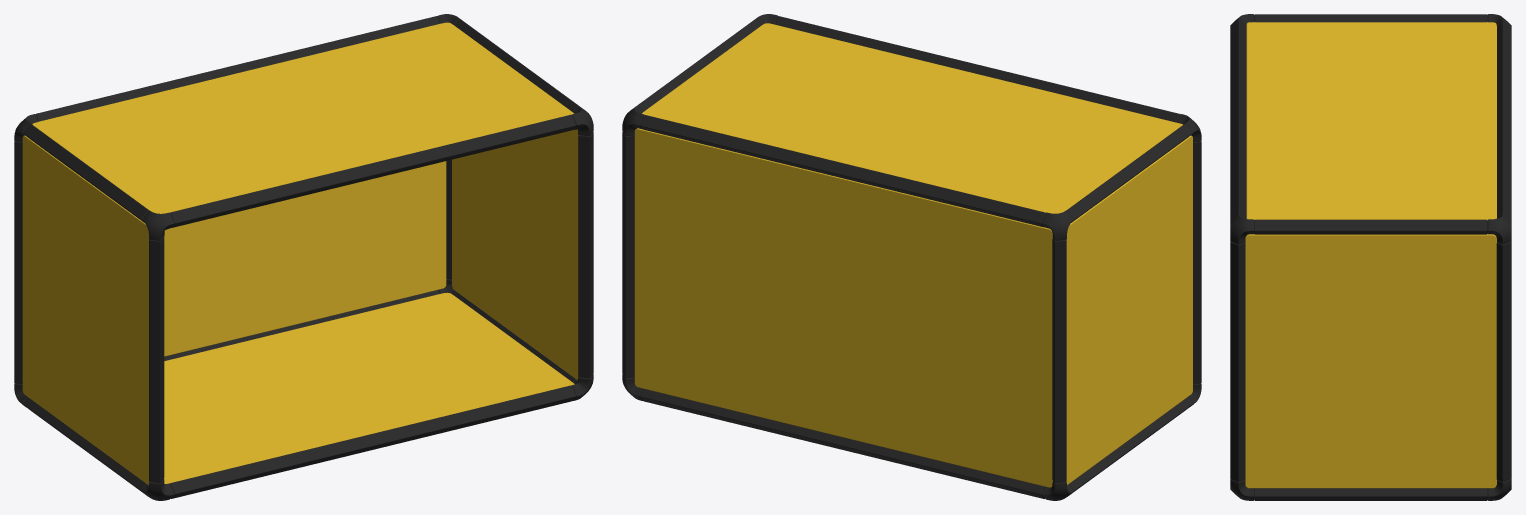
The picture shows the model from 3 angles, left to right: view 1: azimuth 30°, elevation 25°; view 2: azimuth 150°, elevation 25°; view 3: azimuth 270°, elevation 25°; orthographic projection.
Parts seen in each view (by area): view 1: 729x374x420; view 2: 729x374x420; view 3: 729x374x420.
Part boxes in pixels (box(x1,y1,x2,y2)): 729x374x420: box(14, 14, 593, 500); 729x374x420: box(622, 14, 1201, 500); 729x374x420: box(1230, 14, 1511, 500).
Bounding box in the file's own units: 0.8067 × 0.4977 × 0.4513.
